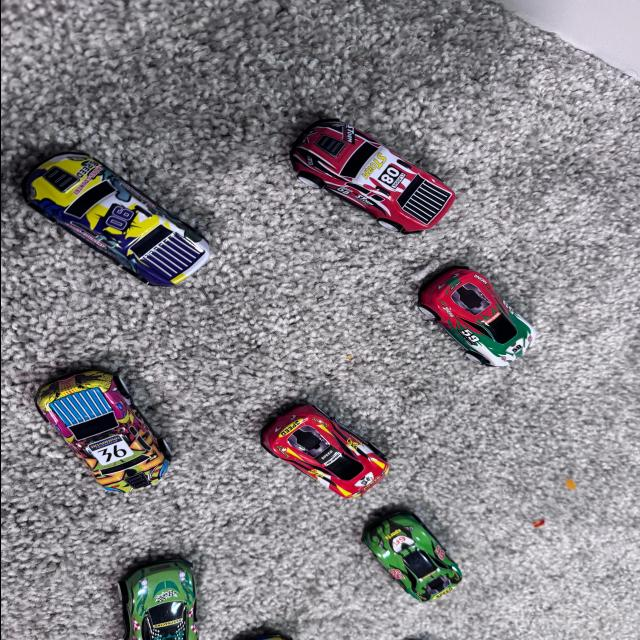car: (0, 114, 227, 285), (8, 360, 182, 514), (294, 100, 462, 236), (350, 486, 486, 596), (102, 534, 233, 640), (248, 404, 382, 502), (418, 255, 552, 352)
